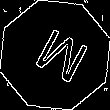M_SW: (23, 22, 87, 88)
